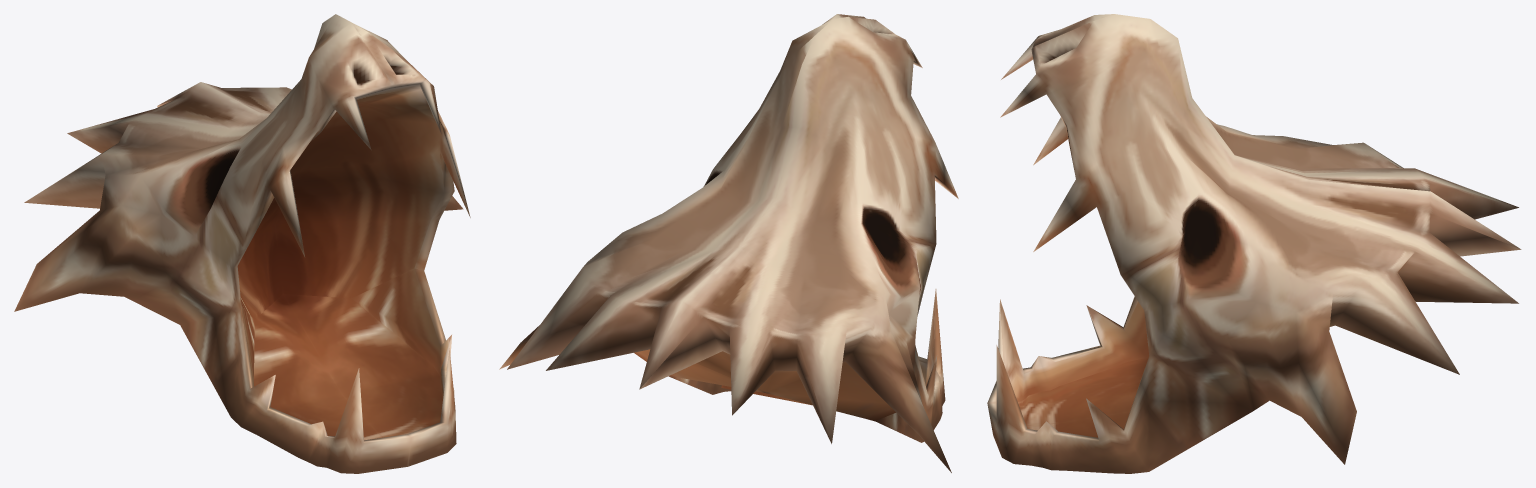
The model's file is TouGu01.FBX.
3 renders of one model, left to right at view 1: azimuth 30°, elevation 25°; view 2: azimuth 150°, elevation 25°; view 3: azimuth 270°, elevation 25°, orthographic. The views are drawn at different scales.
Parts seen in each view (by area): view 1: TouGu01; view 2: TouGu01; view 3: TouGu01.
Part boxes in pixels (left/top/right/bottom): TouGu01: left=14, top=14, right=470, bottom=473; TouGu01: left=499, top=14, right=958, bottom=472; TouGu01: left=987, top=14, right=1521, bottom=473.
Bounding box in the file's own units: 173 × 147 × 169.
